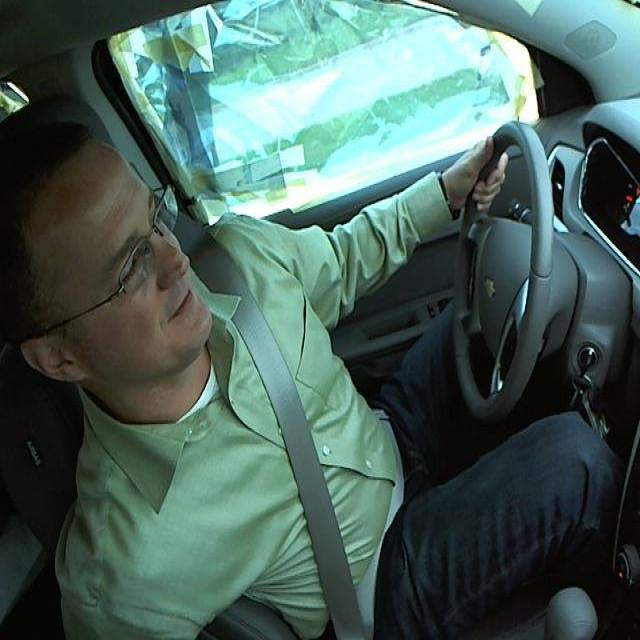seatbelt: (200, 288, 407, 623)
